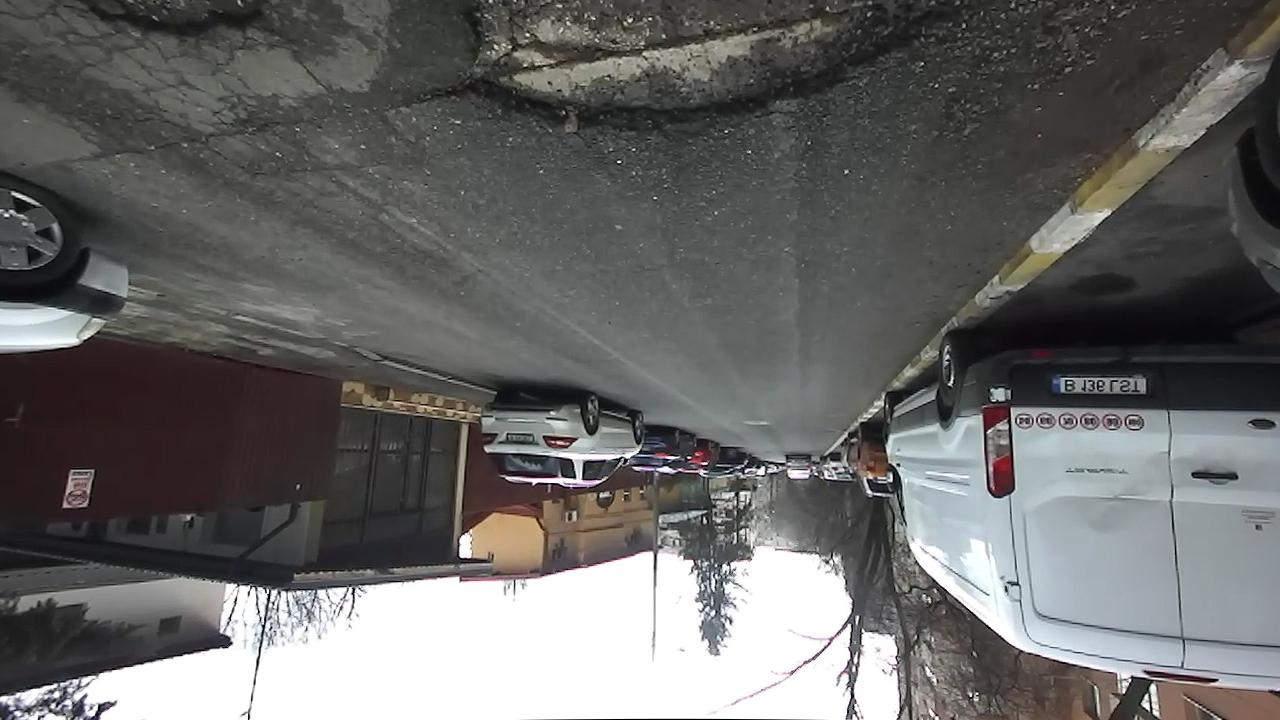pothole: (438, 0, 990, 148), (76, 0, 295, 40)
